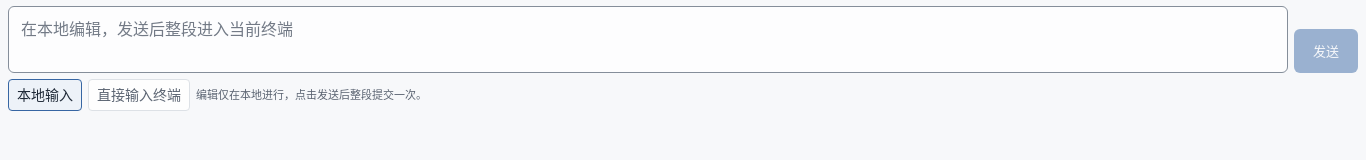
Test: Composer › retains the draft on confirmed failure or timeout without replaying
Type "keep me" into the text box named "本地输入内容" at coordinates (648, 39), box [8,6,1288,73]
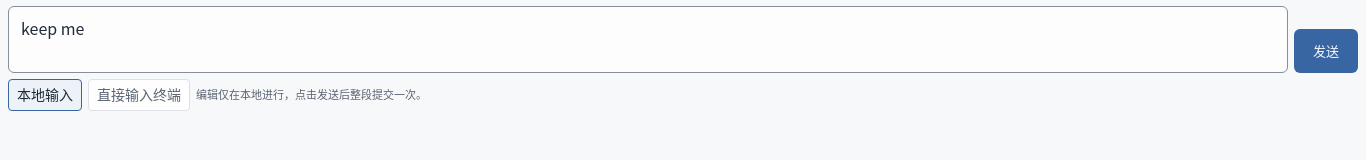
Click the button "发送" at coordinates (1326, 51), box [1294,29,1358,73]
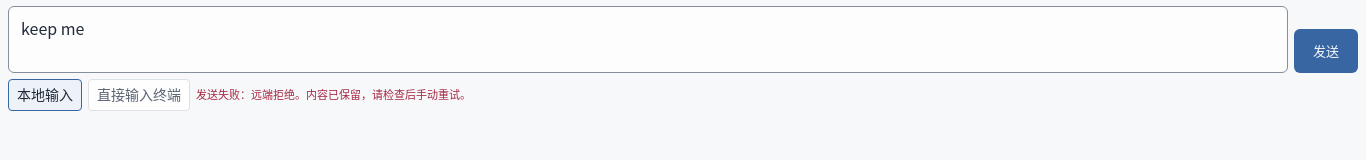
Now the message shows "发送失败", box [196,86,471,102]
Click the button "发送" at coordinates (1326, 51), box [1294,29,1358,73]
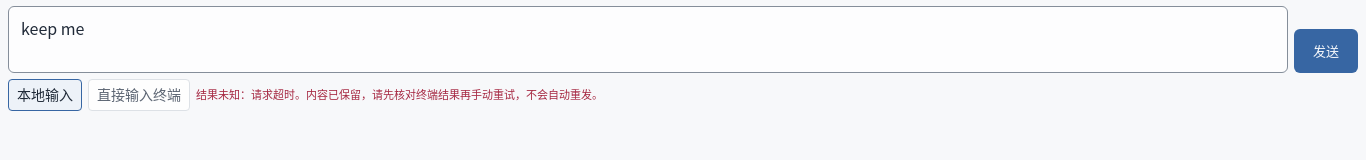
Now the message shows "结果未知", box [196,86,603,102]
